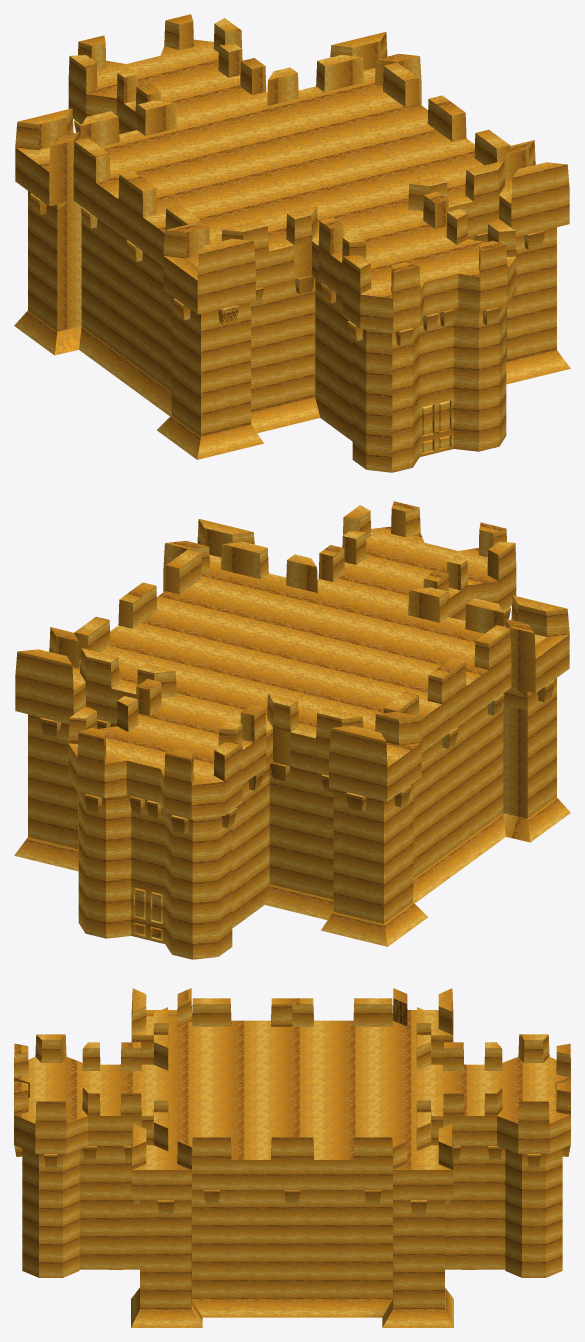
File: Castle_Debris.FBX
3 renders of one model, top to bottom at view 1: azimuth 30°, elevation 25°; view 2: azimuth 150°, elevation 25°; view 3: azimuth 270°, elevation 25°, orthographic. The views are drawn at different scales.
Visible parts, largest first — view 1: Castle_Debris_053, Castle_Debris_021, Castle_Debris_054, Castle_Debris_040, Castle_Debris_067, Castle_Debris_012, Castle_Debris_027, Castle_Debris_015, Castle_Debris_008, Castle_Debris_042, Castle_Debris_050, Castle_Debris_057 (+9 smaller); view 2: Castle_Debris_053, Castle_Debris_051, Castle_Debris_057, Castle_Debris_015, Castle_Debris_064, Castle_Debris_050, Castle_Debris_040, Castle_Debris_008, Castle_Debris_042, Castle_Debris_054, Castle_Debris_012, Castle_Debris_021 (+8 smaller); view 3: Castle_Debris_015, Castle_Debris_053, Castle_Debris_012, Castle_Debris_020, Castle_Debris_021, Castle_Debris_045, Castle_Debris_025, Castle_Debris_040, Castle_Debris_022, Castle_Debris_014, Castle_Debris_042, Castle_Debris_008 (+11 smaller).
Part boxes in pixels (x1,y1,x2,y2): Castle_Debris_053: (106,186,420,428); Castle_Debris_021: (373,218,516,415); Castle_Debris_054: (15,165,207,316); Castle_Debris_040: (137,100,335,192); Castle_Debris_067: (120,321,352,459); Castle_Debris_012: (391,117,569,273); Castle_Debris_027: (299,359,463,472); Castle_Debris_015: (294,32,427,121); Castle_Debris_008: (336,150,504,233); Castle_Debris_042: (117,52,308,122); Castle_Debris_050: (15,108,171,186); Castle_Debris_057: (14,207,105,355); Castle_Debris_053: (354,522,569,875); Castle_Debris_051: (78,732,333,931); Castle_Debris_057: (246,789,427,946); Castle_Debris_015: (15,616,179,821); Castle_Debris_064: (79,827,324,959); Castle_Debris_050: (271,691,420,801); Castle_Debris_040: (188,643,389,732); Castle_Debris_008: (205,541,354,642); Castle_Debris_042: (119,663,270,779); Castle_Debris_054: (358,660,462,851); Castle_Debris_012: (151,519,240,628); Castle_Debris_021: (343,501,478,601); Castle_Debris_015: (291,1112,453,1305); Castle_Debris_053: (14,988,288,1093); Castle_Debris_012: (131,1130,290,1262); Castle_Debris_020: (350,1172,562,1327); Castle_Debris_021: (14,1077,154,1213); Castle_Debris_045: (392,1086,570,1175); Castle_Debris_025: (131,1248,323,1327); Castle_Debris_040: (284,1035,437,1115); Castle_Debris_022: (22,1188,189,1312); Castle_Debris_014: (209,1179,350,1295); Castle_Debris_042: (370,1042,557,1118); Castle_Debris_008: (106,1087,283,1143).
Bounding box in the file's own units: 2301 × 3369 × 1203.
Materials: 1 (1 with a texture image).
